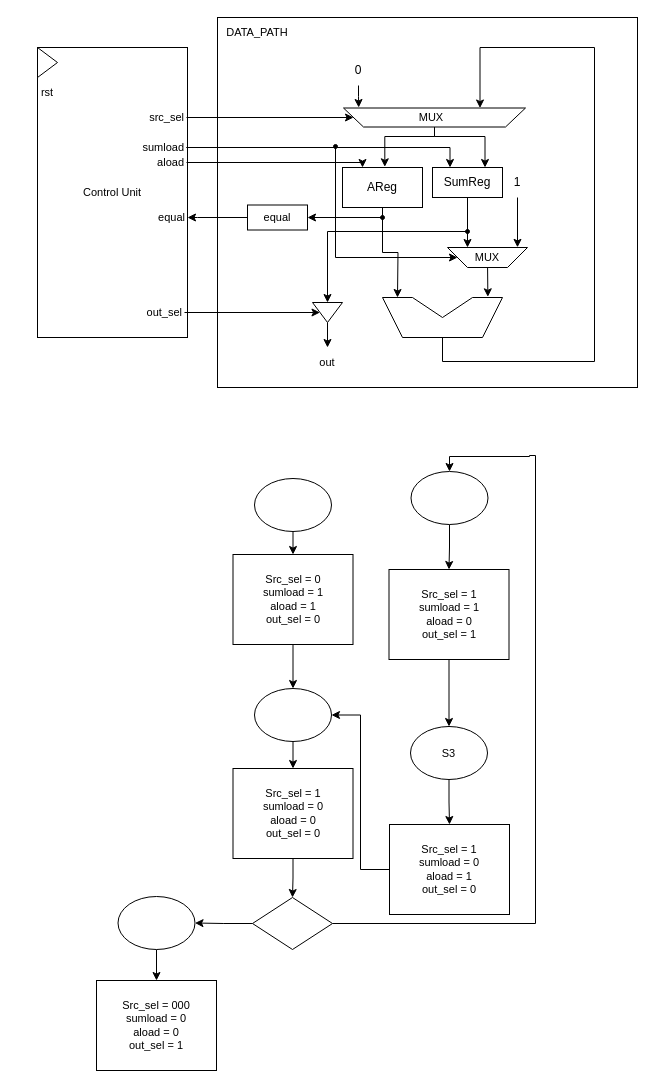
The diagram is 655 pixels wide and 1088 high, and some of its shapes have lost their labels. Each missing label, with the centre of its shape:
"a != 10" belongs at point 292,923.
"ALU" belongs at point 442,317.
"IDLE" belongs at point 293,505.
"S1" belongs at point 293,715.
"S2" belongs at point 449,497.
"S4" belongs at point 156,923.
